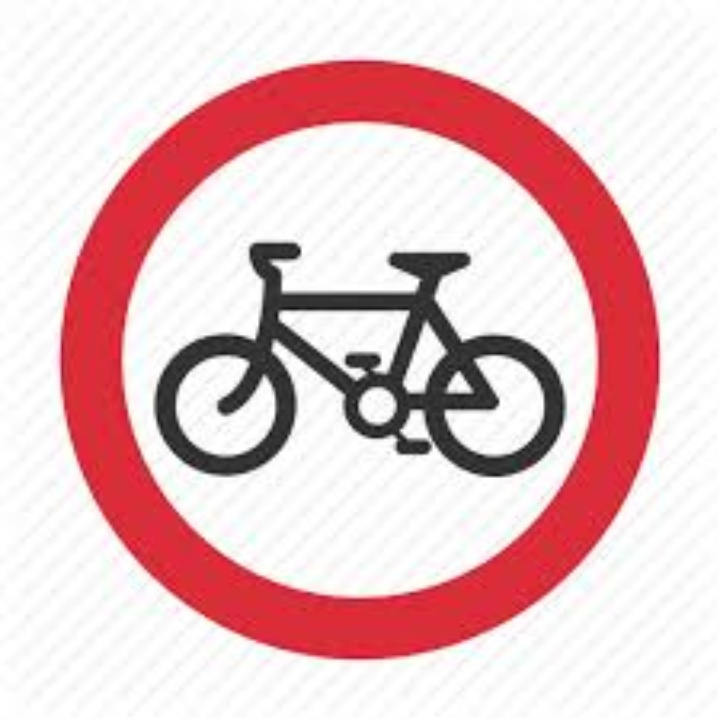bicycle: (147, 145, 571, 569)
